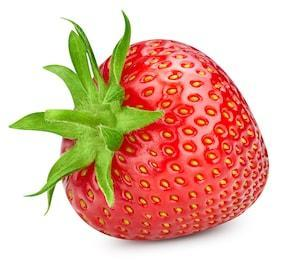Fresa: (54, 33, 276, 246)
